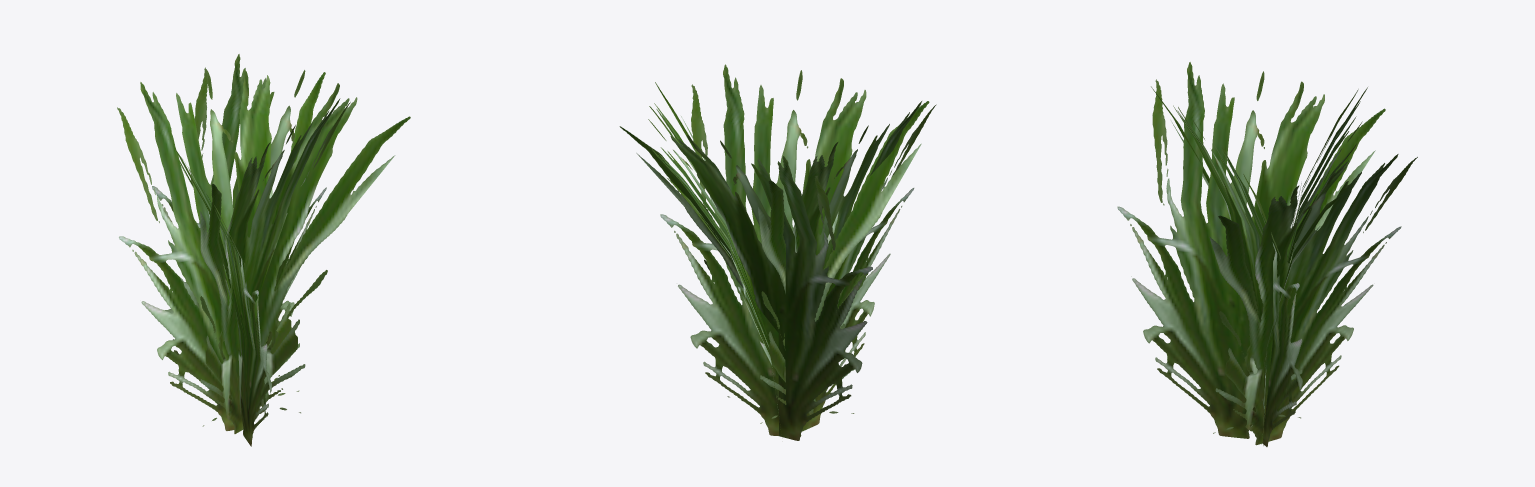
Rendered from Model_WaterPlant_01.fbx.
3 renders of one model, left to right at view 1: azimuth 30°, elevation 25°; view 2: azimuth 150°, elevation 25°; view 3: azimuth 270°, elevation 25°, orthographic. The views are drawn at different scales.
Visible parts, largest first — view 1: WaterPlant_01; view 2: WaterPlant_01; view 3: WaterPlant_01.
Boxes of the visible parts, left/top/right/bottom form: WaterPlant_01: left=117, top=54, right=410, bottom=446; WaterPlant_01: left=619, top=64, right=936, bottom=440; WaterPlant_01: left=1117, top=62, right=1417, bottom=446.
Bounding box in the file's own units: 120 × 103 × 126.
